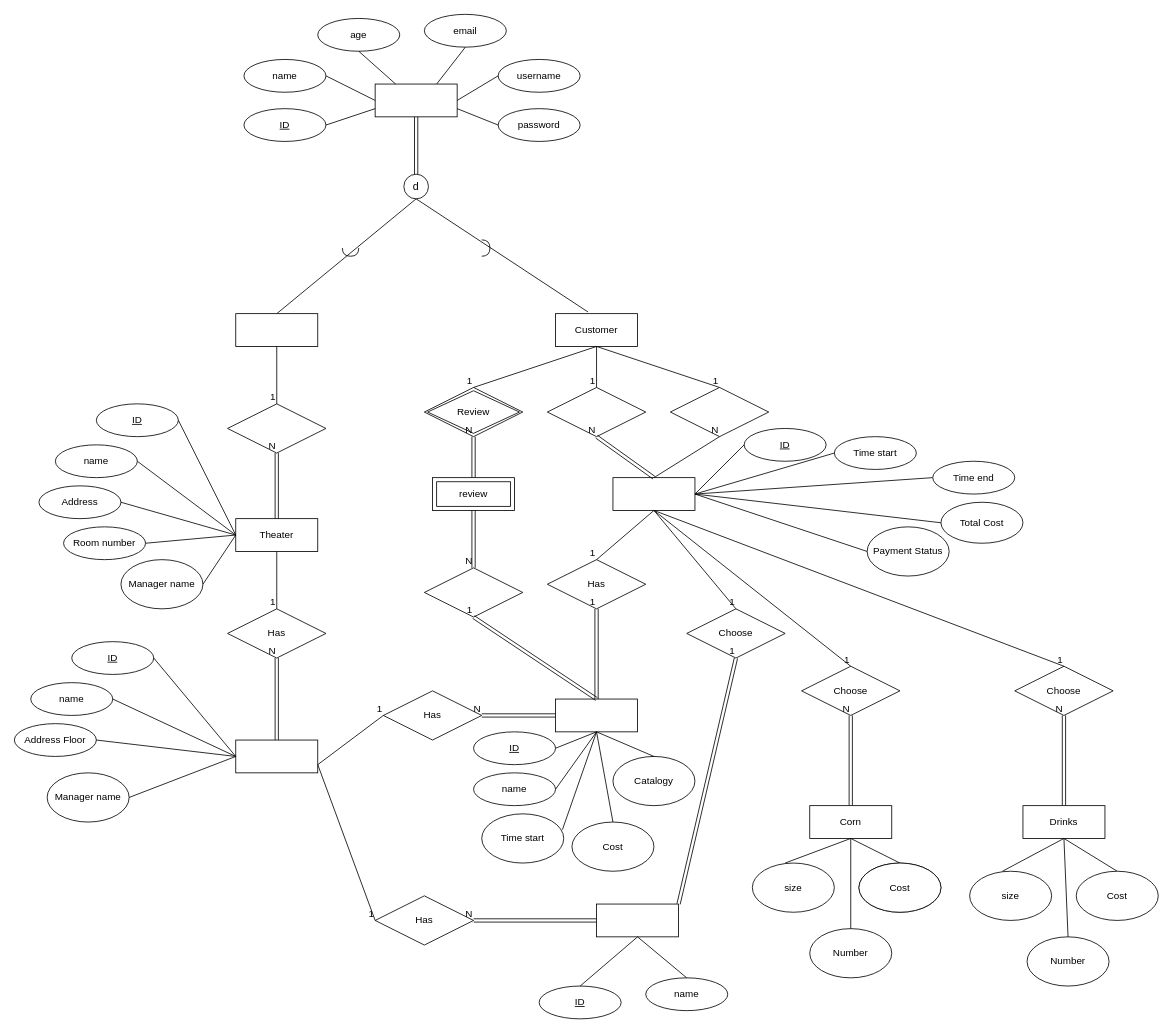
Image size: 1173x1033. Some labels were removed from this diagram. Here are the shapes that lost their labels. From the top down, the box of each, then its label:
(374, 83, 457, 117): Person
(235, 313, 318, 346): Admin
(227, 403, 326, 453): Manage
(547, 387, 646, 437): Book
(670, 387, 769, 437): Payment
(612, 477, 695, 510): Ticket
(424, 567, 523, 617): About
(555, 698, 638, 732): Movie
(235, 739, 318, 773): Room
(596, 903, 679, 937): Seat
